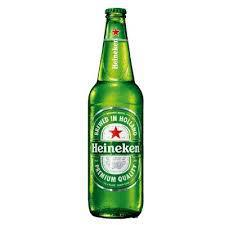beer: (88, 8, 143, 219)
